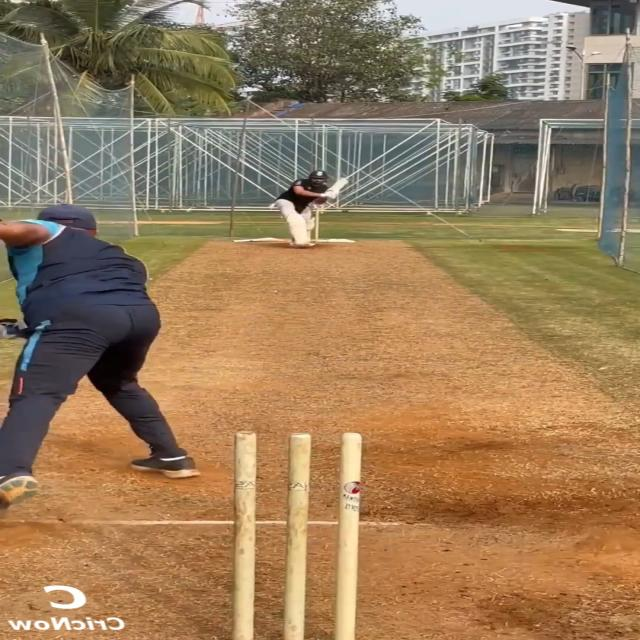stump: (228, 432, 363, 640)
